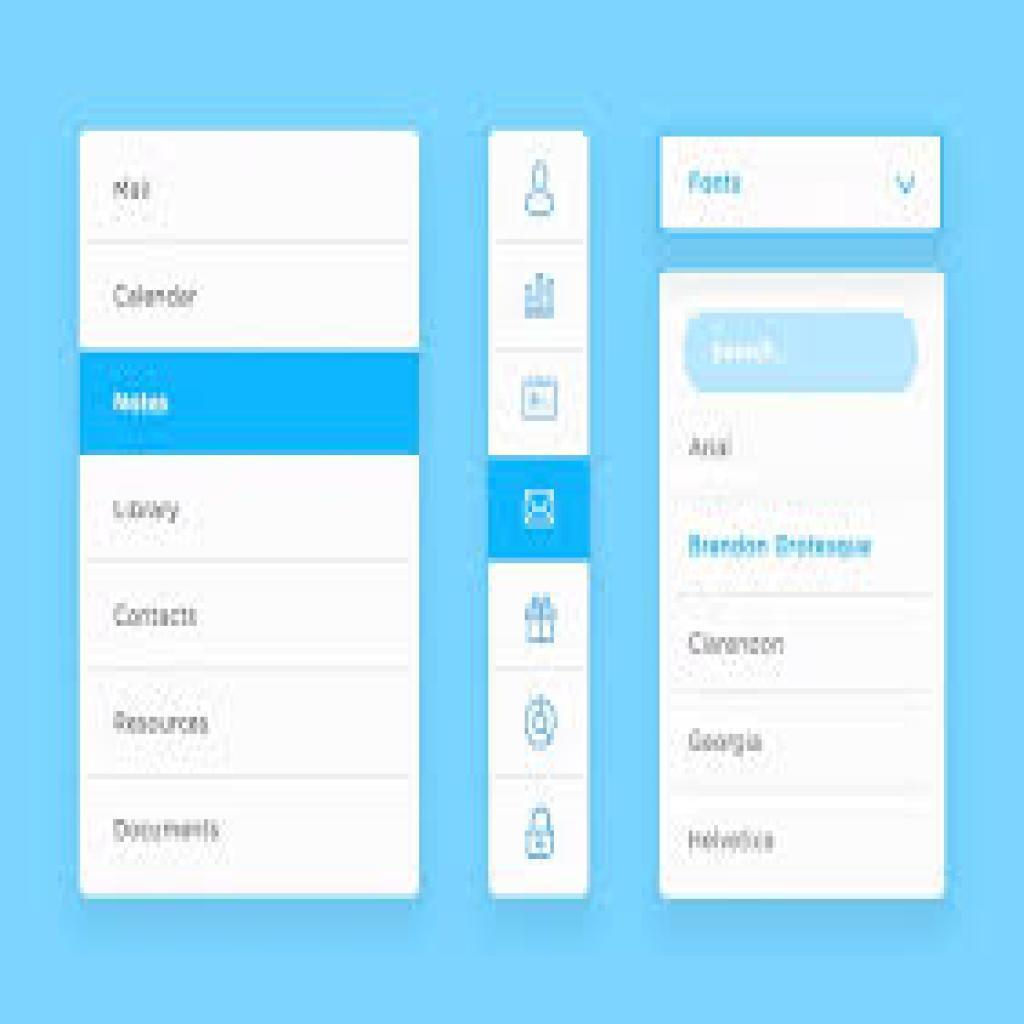button: (81, 351, 419, 454)
dropdown: (659, 137, 945, 229)
icon: (514, 365, 568, 429), (515, 264, 563, 332), (521, 152, 564, 221), (514, 482, 567, 537), (519, 803, 562, 861), (521, 697, 562, 752), (520, 592, 562, 645)
input: (687, 309, 921, 391)
